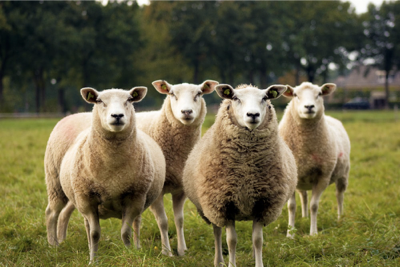koyun: (47, 84, 155, 257), (214, 81, 284, 266), (289, 81, 348, 235), (165, 81, 206, 126)
